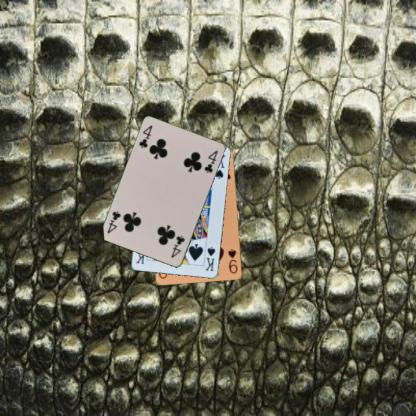4c: (136, 123, 154, 150), (169, 233, 186, 259)
9s: (226, 246, 239, 275)
Ks: (203, 244, 217, 273)
